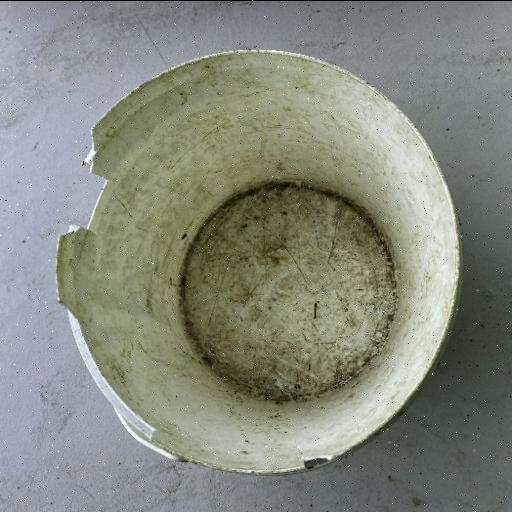Plastic: (54, 47, 464, 476)
